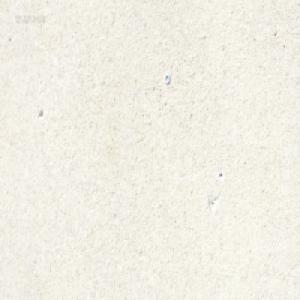Washer: (164, 74, 170, 85)
